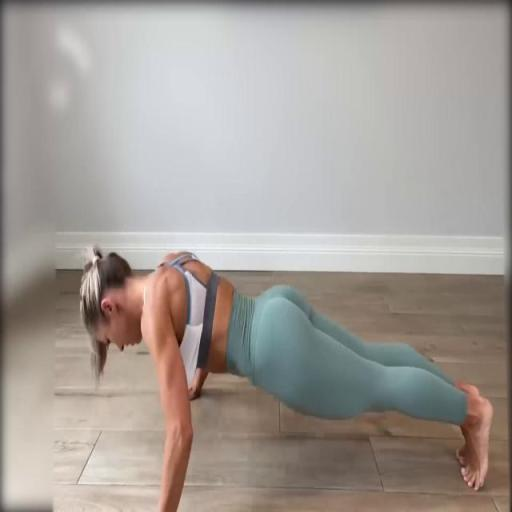Normal_Dips: (5, 237, 509, 512)
